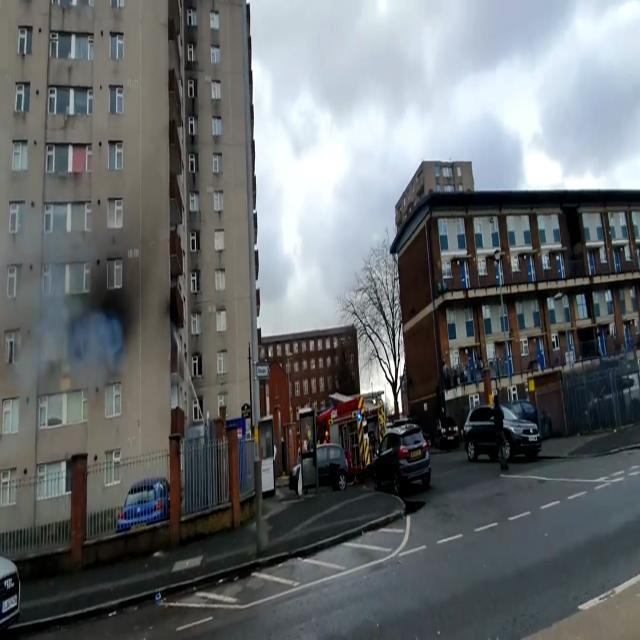Smoke: (7, 280, 128, 394)
